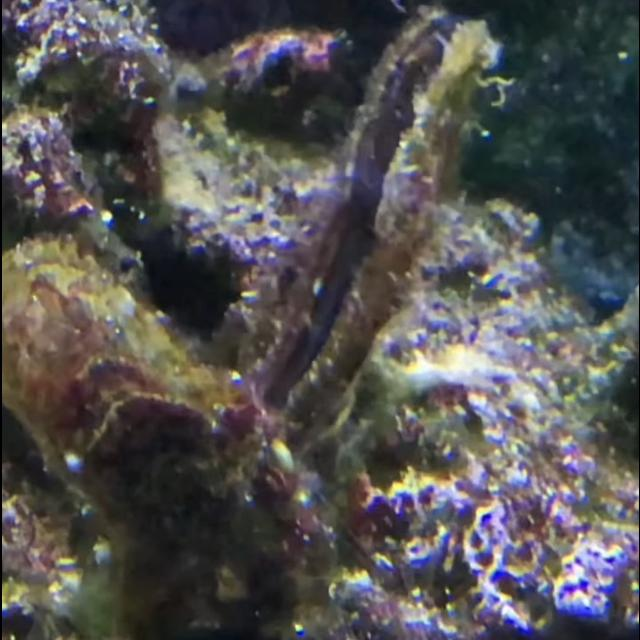Oyster-Closed: (2, 239, 308, 605)
Oyster-Open: (213, 12, 502, 464)
